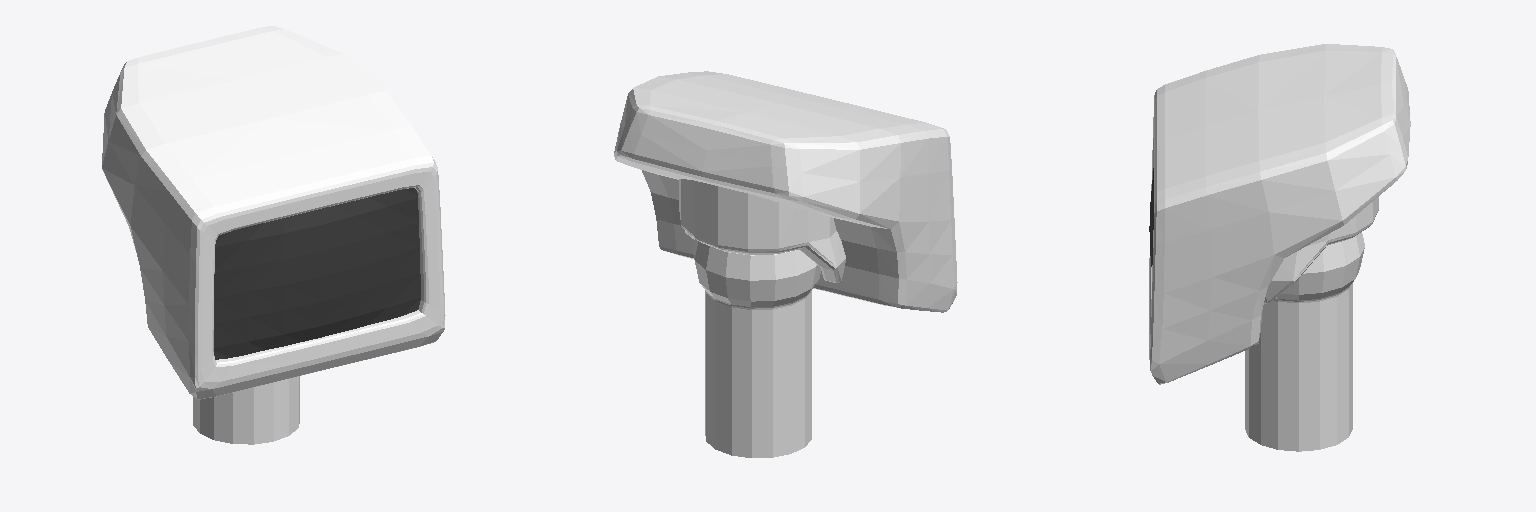
The model's file is Cabeza.obj.
The picture shows the model from 3 angles: view 1: azimuth 30°, elevation 25°; view 2: azimuth 150°, elevation 25°; view 3: azimuth 270°, elevation 25°; orthographic projection.
Visible parts, largest first — view 1: rig_test.003; view 2: rig_test.003; view 3: rig_test.003.
Part boxes in pixels (left/top/right/bottom): rig_test.003: left=102, top=26, right=445, bottom=444; rig_test.003: left=614, top=71, right=957, bottom=457; rig_test.003: left=1149, top=44, right=1410, bottom=451.
Bounding box in the file's own units: 27.05 × 34.8 × 23.85.